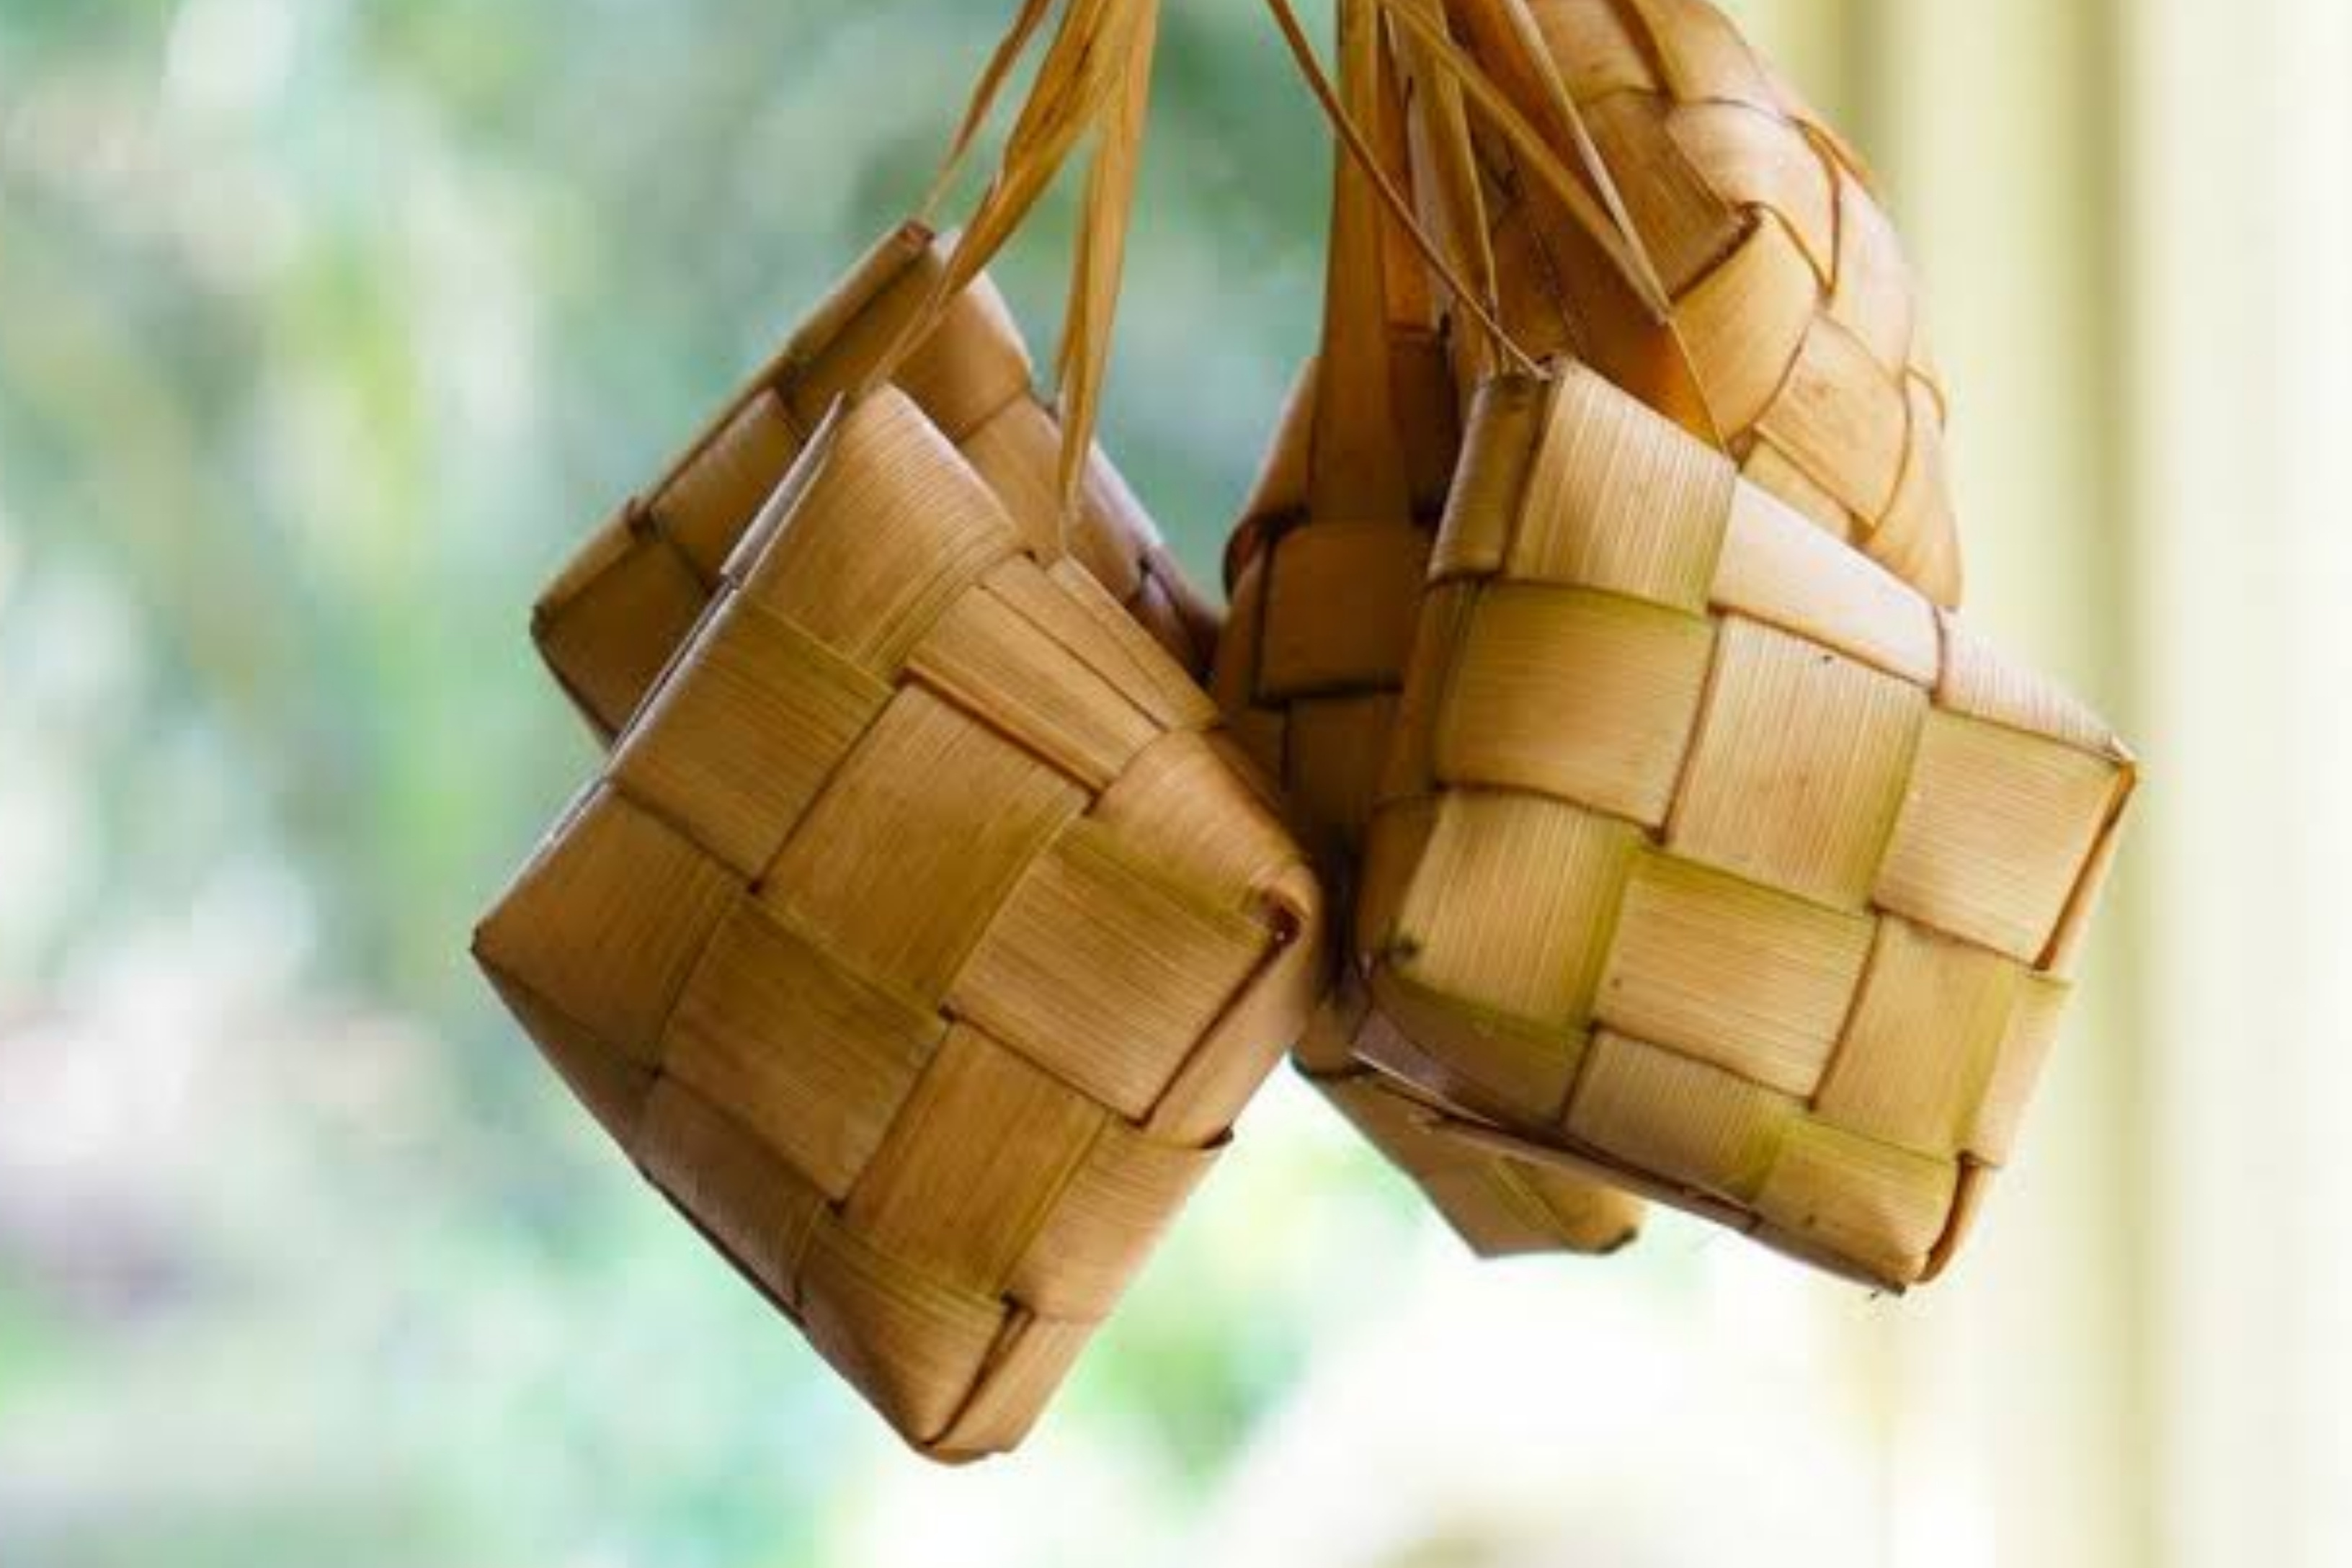ketupat: (464, 383, 1335, 1463), (1344, 364, 2144, 1295)
